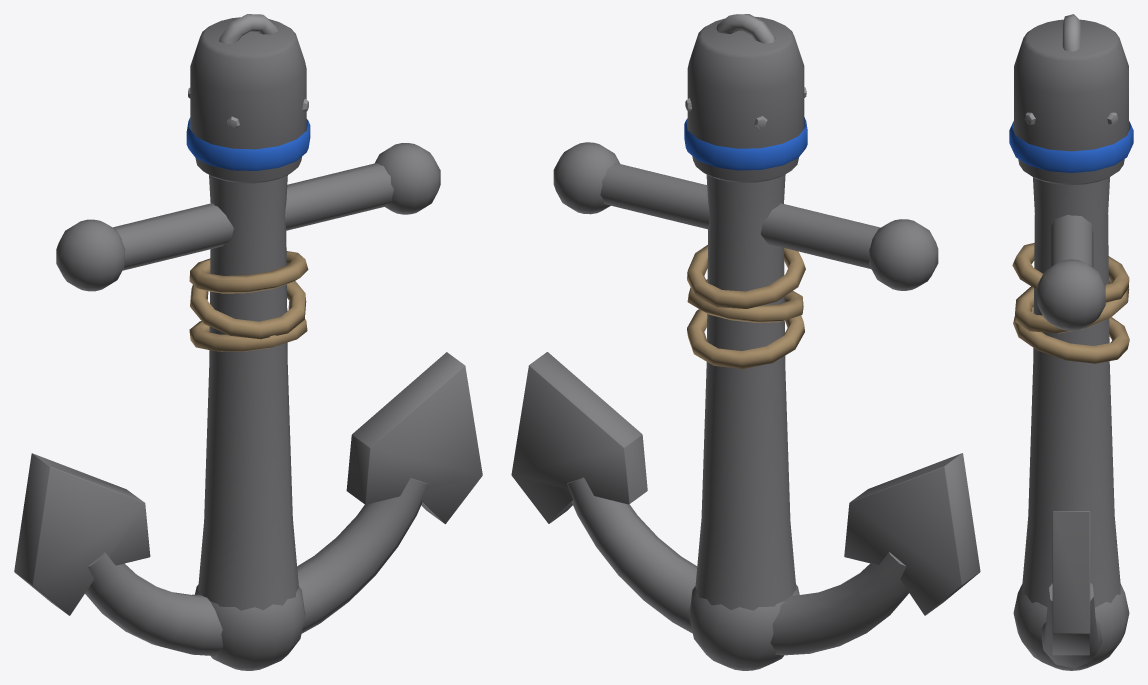
File: Kit_Anchor_Head.glb
3 renders of one model, left to right at view 1: azimuth 30°, elevation 25°; view 2: azimuth 150°, elevation 25°; view 3: azimuth 270°, elevation 25°, orthographic.
Parts seen in each view (by area): view 1: Kit_Anchor_Head; view 2: Kit_Anchor_Head; view 3: Kit_Anchor_Head.
Part boxes in pixels (x1,y1,x2,y2): Kit_Anchor_Head: (14,14,482,670); Kit_Anchor_Head: (511,14,980,670); Kit_Anchor_Head: (1009,14,1133,670).
Bounding box in the file's own units: 0.3037 × 0.4193 × 0.0728.
